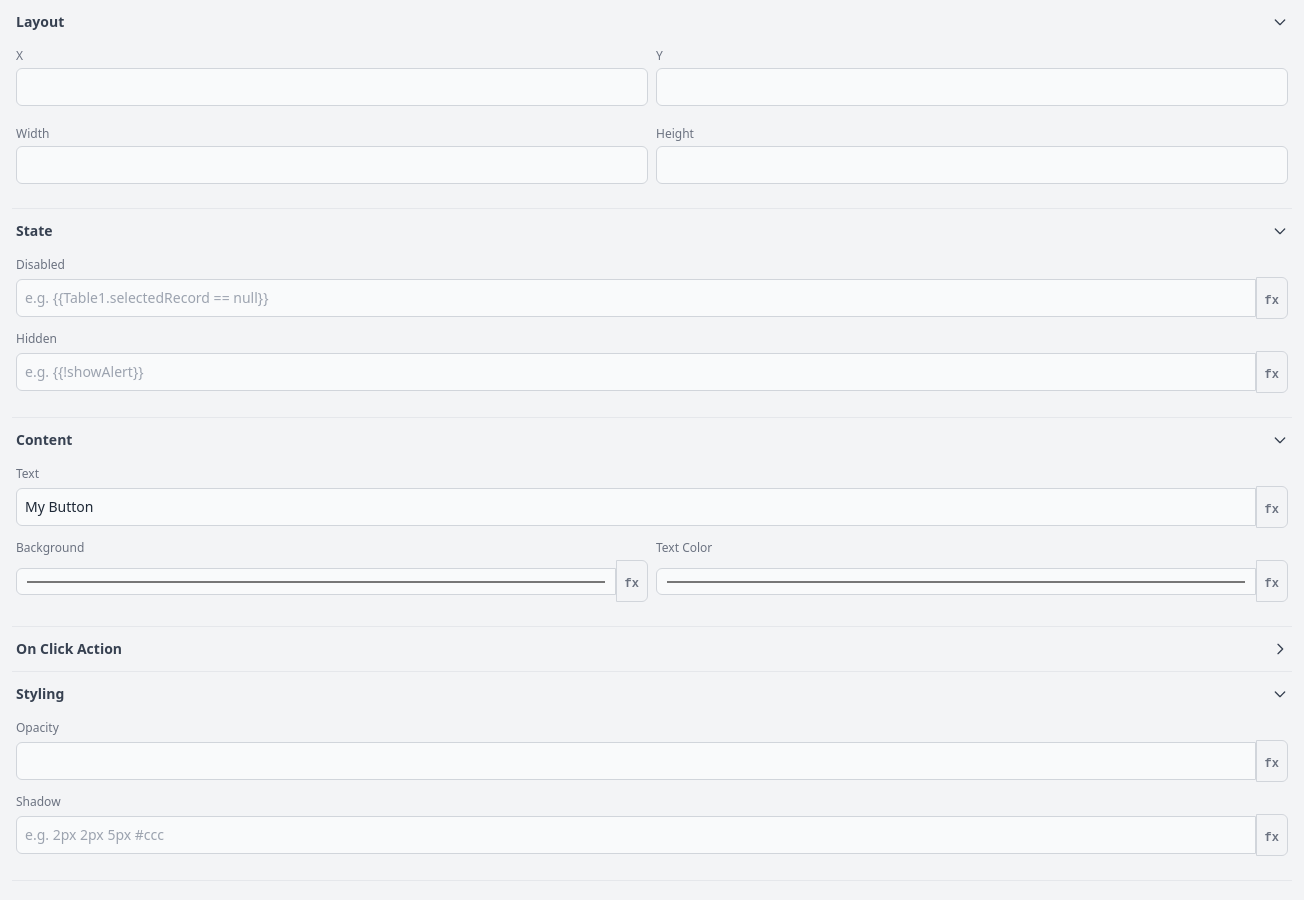
it: ButtonPlugin › Properties › should show alert message field when actionType is "alert"
This screenshot has width=1304, height=900.
Note: Open the collapsed "On Click Action" section so its fields are visible
Click the button "On Click Action".
click(69, 648)  # box [12,635,1292,663]
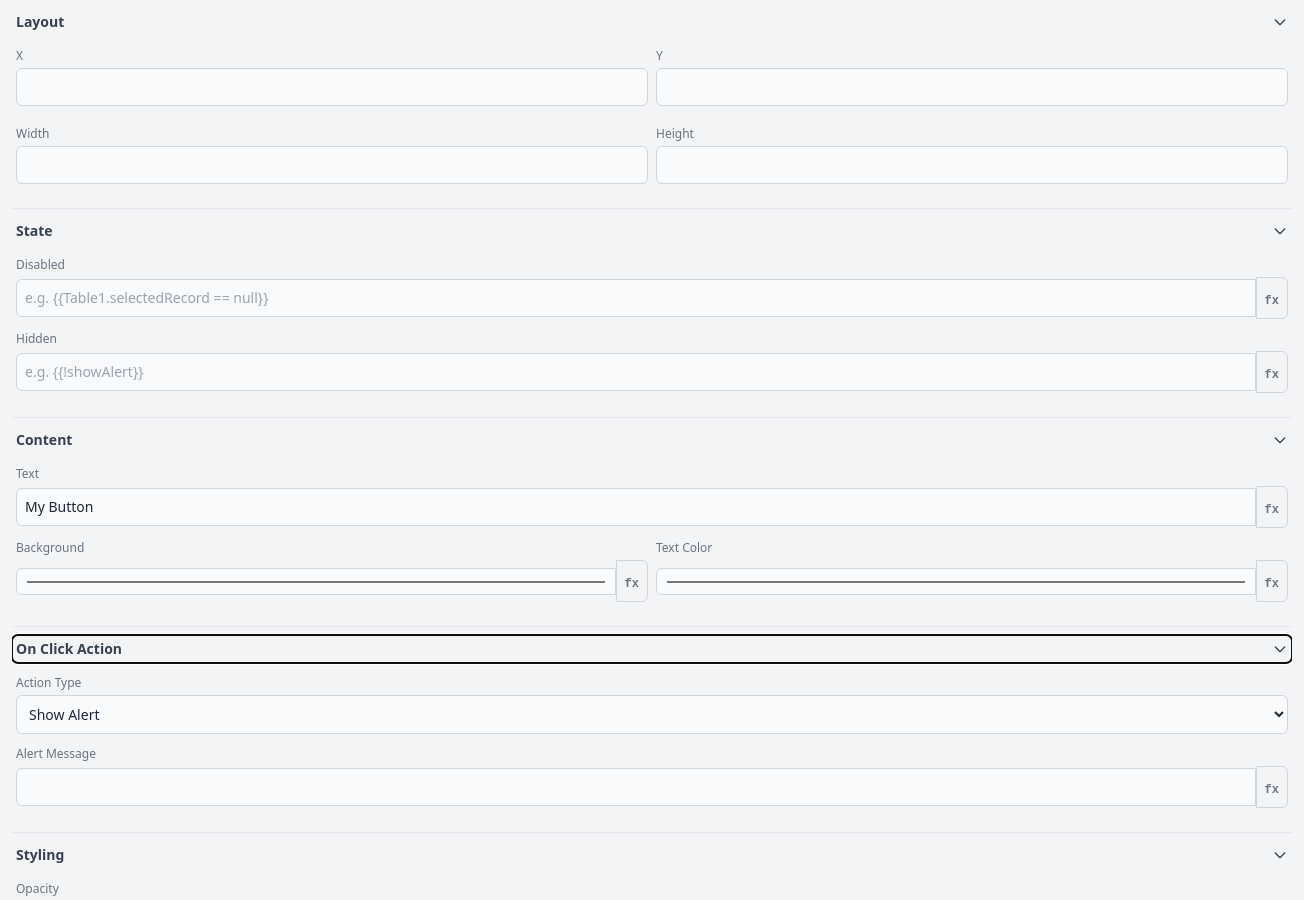
Expected: the dropdown labelled "Action Type" shows "Show Alert", [16,695,1288,734]
Expected: the element with test id "prop-fx-input-Alert-Message" is shown, [16,746,1288,808]
